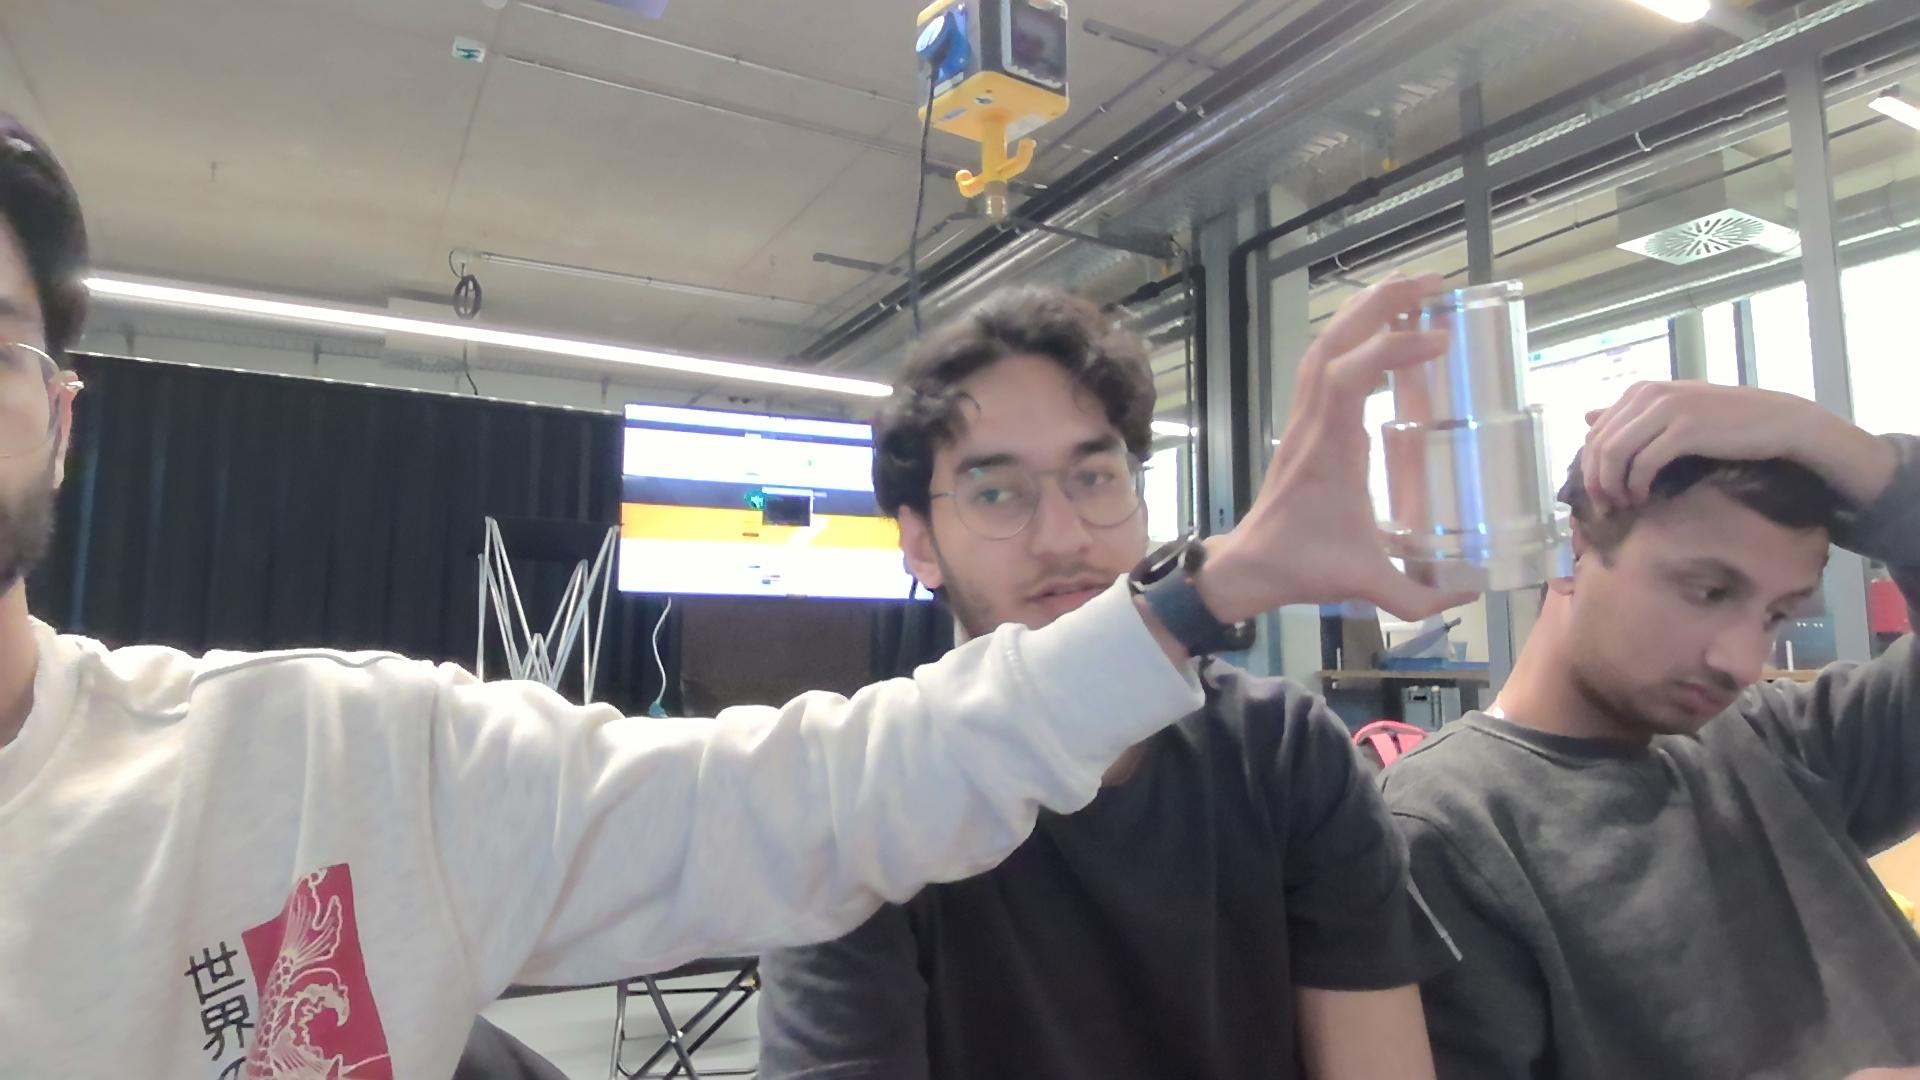objects: (1369, 277, 1584, 609)
